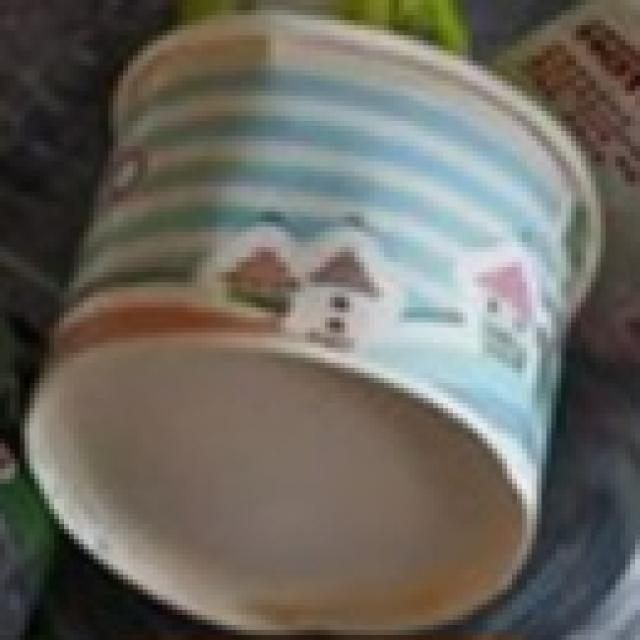plastic cup: (15, 0, 640, 635)
